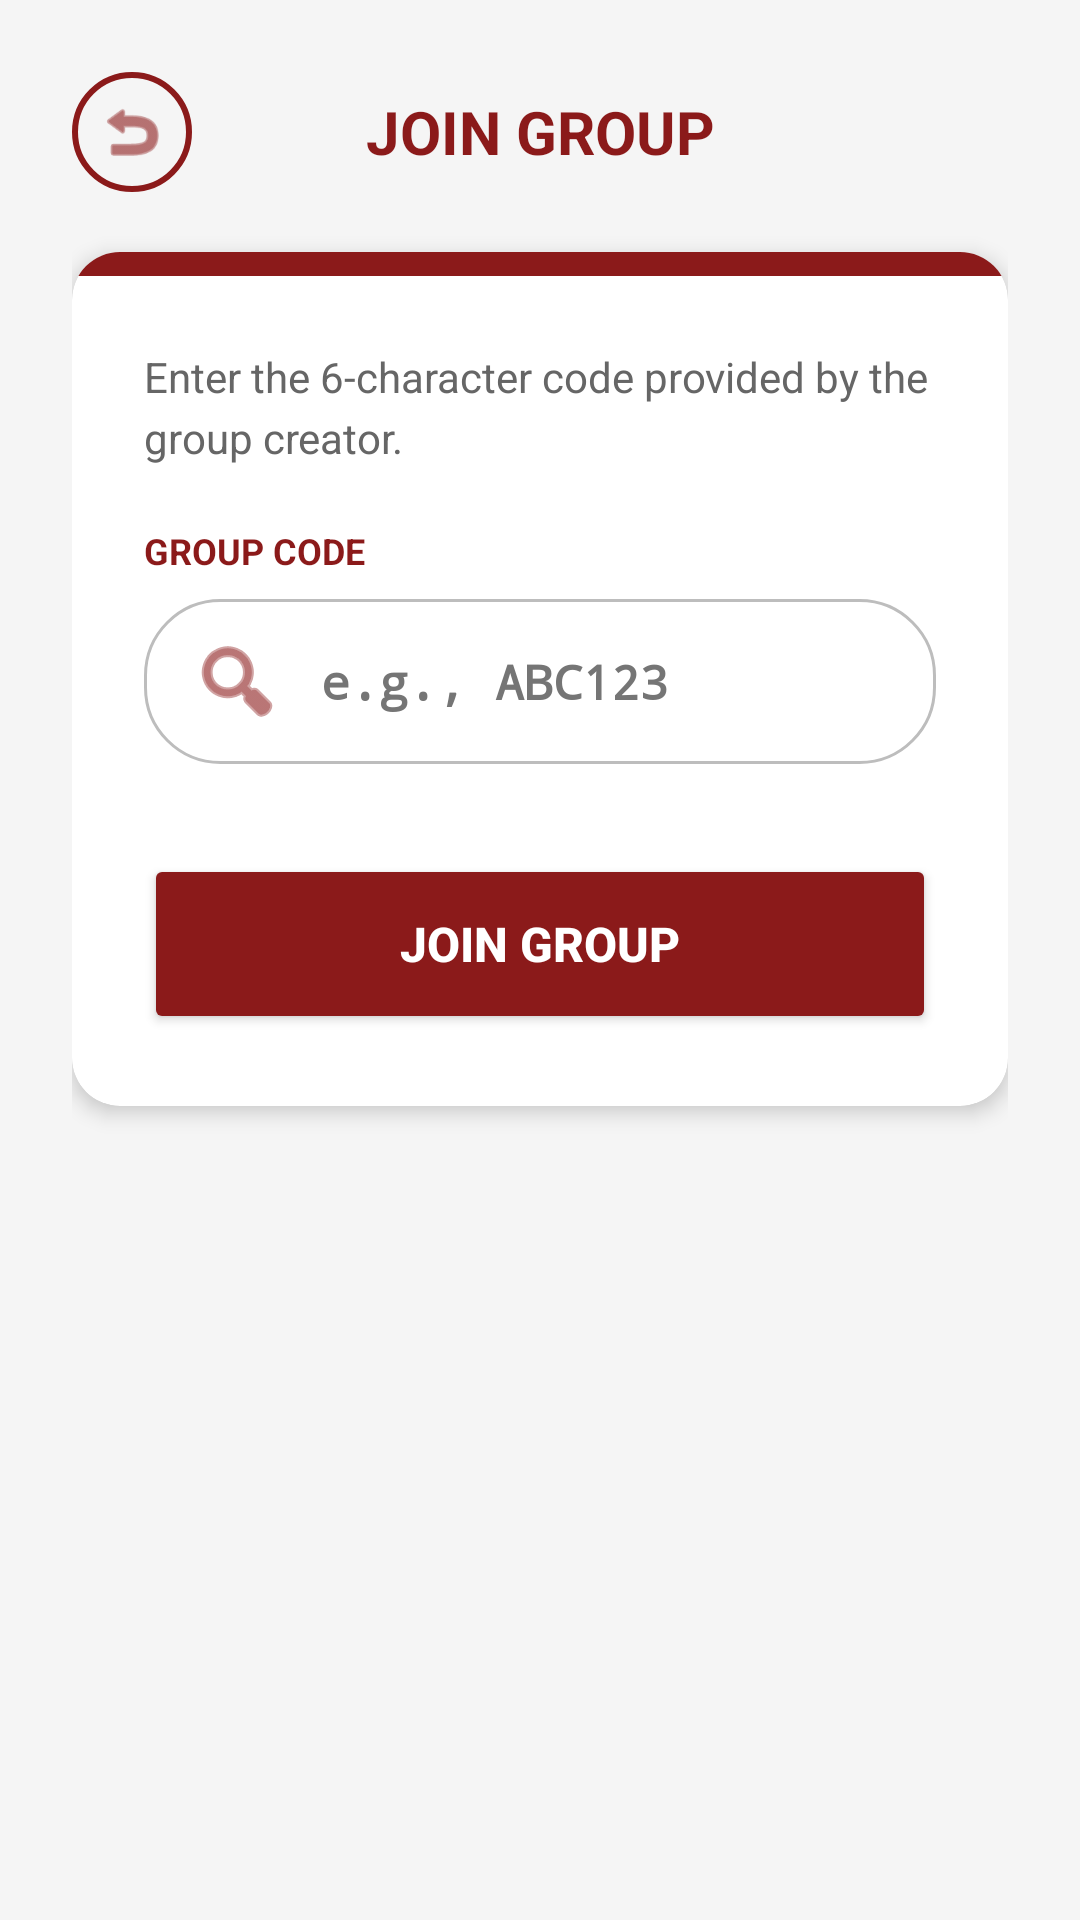

Where to tap for icons on this 1080*1920 app screen, as point (x, y):
revert: point (132, 132)
